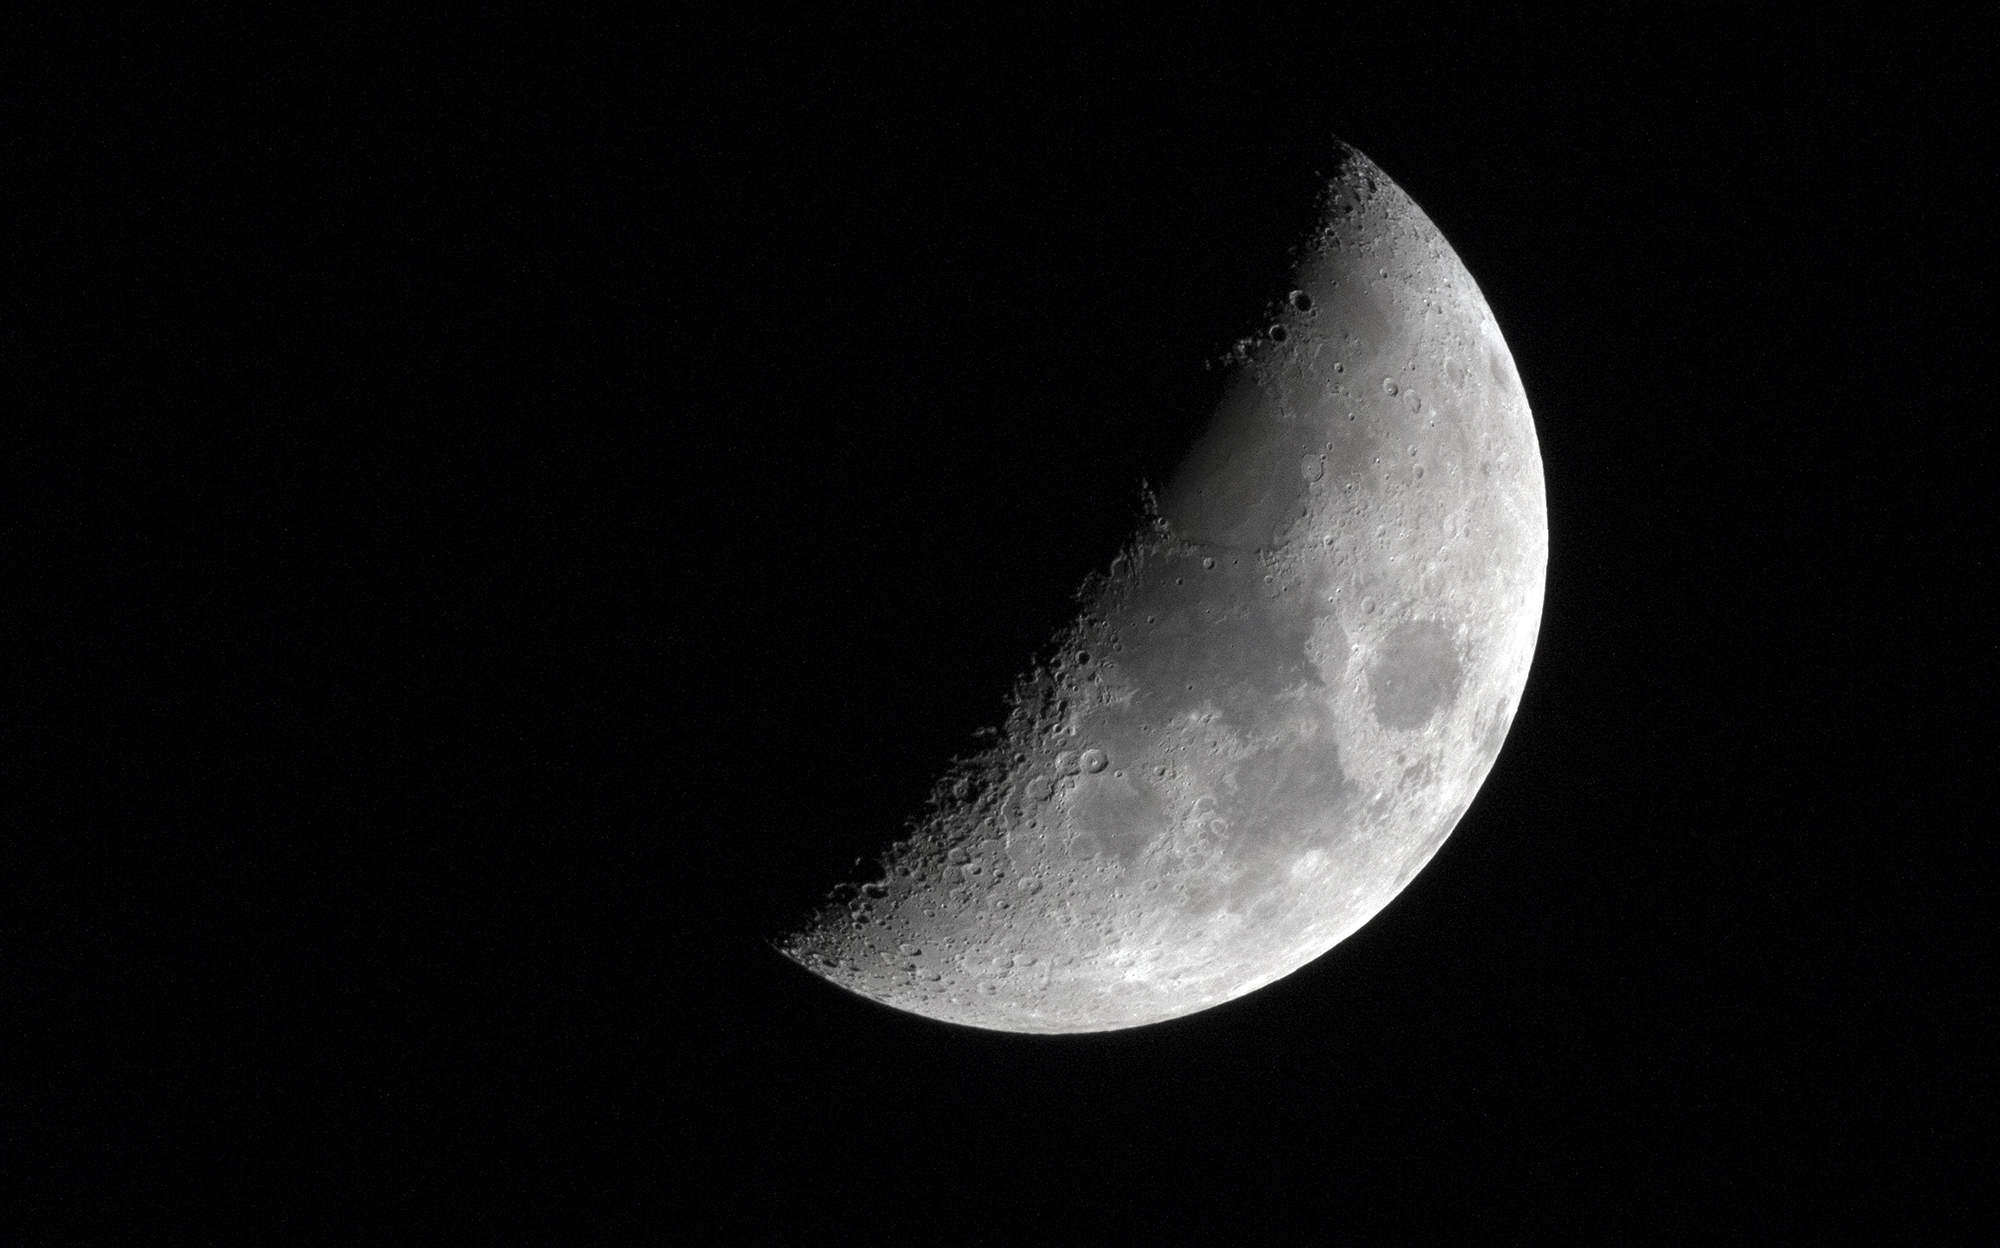crater: (1360, 614, 1474, 748), (1075, 738, 1117, 792), (1434, 348, 1475, 403), (1009, 868, 1052, 909), (1295, 449, 1334, 489), (1285, 280, 1324, 321), (1372, 362, 1400, 408), (1393, 387, 1434, 418), (1068, 646, 1101, 676), (1354, 589, 1383, 621), (1134, 871, 1165, 900), (1261, 324, 1294, 347), (1198, 551, 1222, 577)
